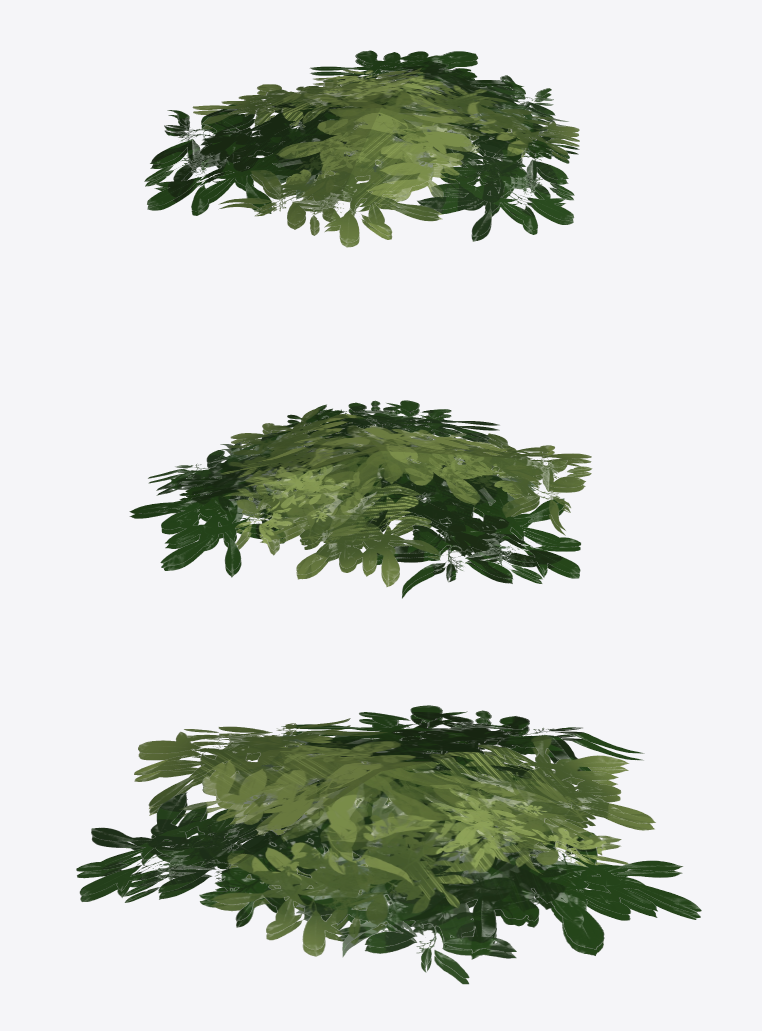
3 views of the same model, one above another, from view 1: azimuth 30°, elevation 25°; view 2: azimuth 150°, elevation 25°; view 3: azimuth 270°, elevation 25° (orthographic). The views are drawn at different scales.
Visible parts, largest first — view 1: alpha_color.005; view 2: alpha_color.005; view 3: alpha_color.005.
Boxes of the visible parts, x1,y1,x2,y2 form: alpha_color.005: [144, 50, 579, 247]; alpha_color.005: [129, 400, 592, 598]; alpha_color.005: [76, 705, 701, 984].
Size of the model in its own units: 1 by 0.136 by 1.
1 material, 1 textured.
